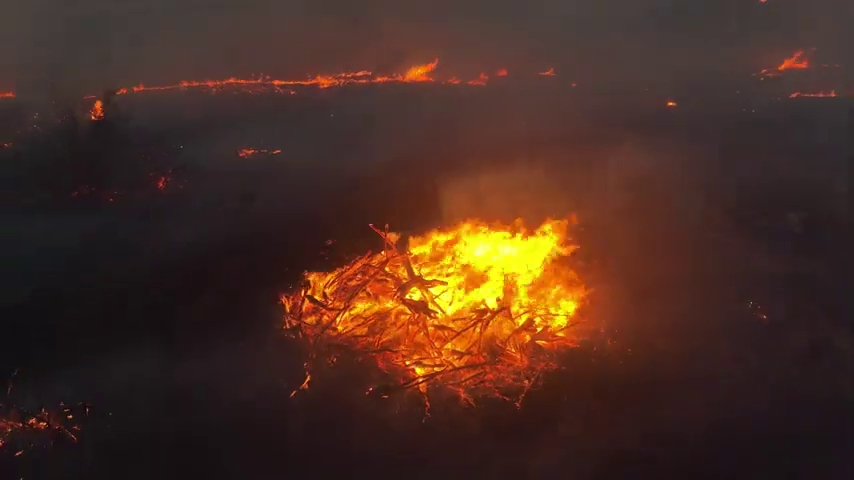forest_fire: (282, 219, 585, 402), (84, 58, 491, 120), (753, 51, 811, 80)
